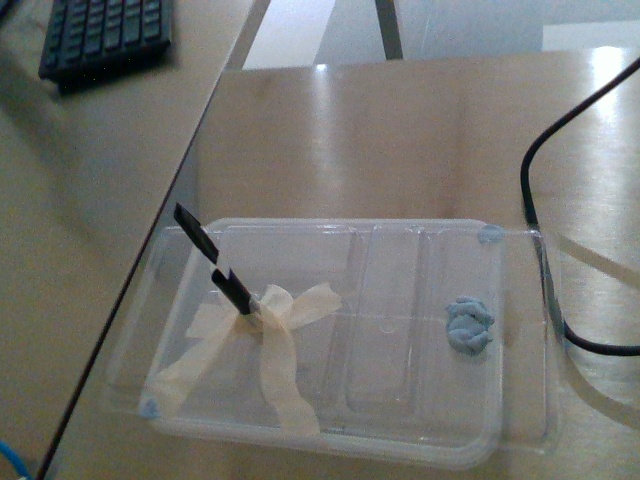test_strip: (170, 200, 228, 277)
